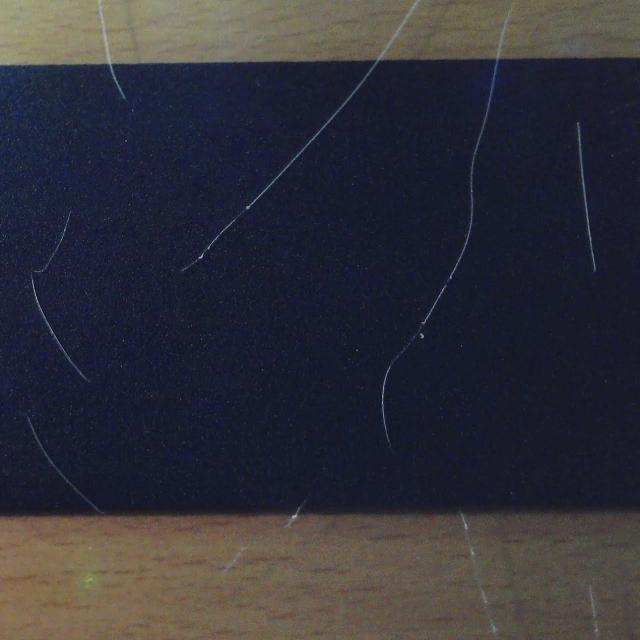defect: (380, 45, 502, 452), (178, 59, 380, 273), (28, 210, 93, 382), (23, 413, 105, 515), (571, 119, 601, 278), (100, 64, 137, 108)
